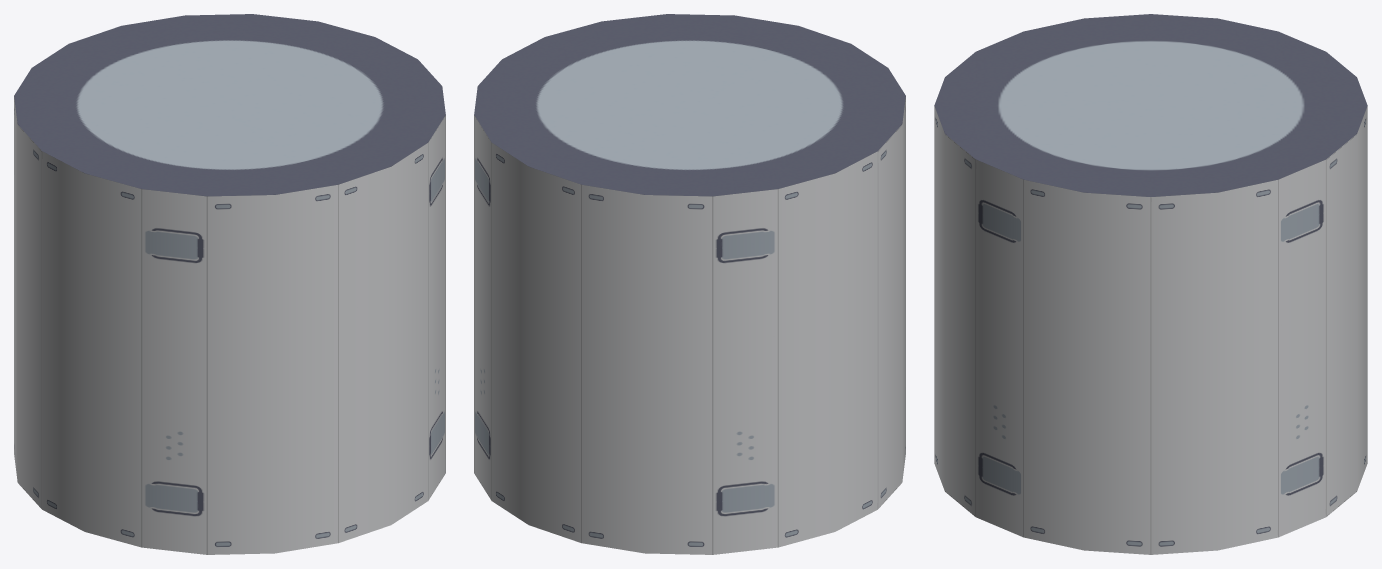
The model's file is Space_X_Middle.FBX.
3 renders of one model, left to right at view 1: azimuth 30°, elevation 25°; view 2: azimuth 150°, elevation 25°; view 3: azimuth 270°, elevation 25°, orthographic.
Parts seen in each view (by area): view 1: Space_X_Middle; view 2: Space_X_Middle; view 3: Space_X_Middle.
Part boxes in pixels (x1,y1,x2,y2): Space_X_Middle: (14, 14, 445, 554); Space_X_Middle: (474, 14, 905, 554); Space_X_Middle: (934, 14, 1367, 554).
Size of the model in its own units: 5.76 by 5.25 by 5.76.
2 materials, 2 textured.
